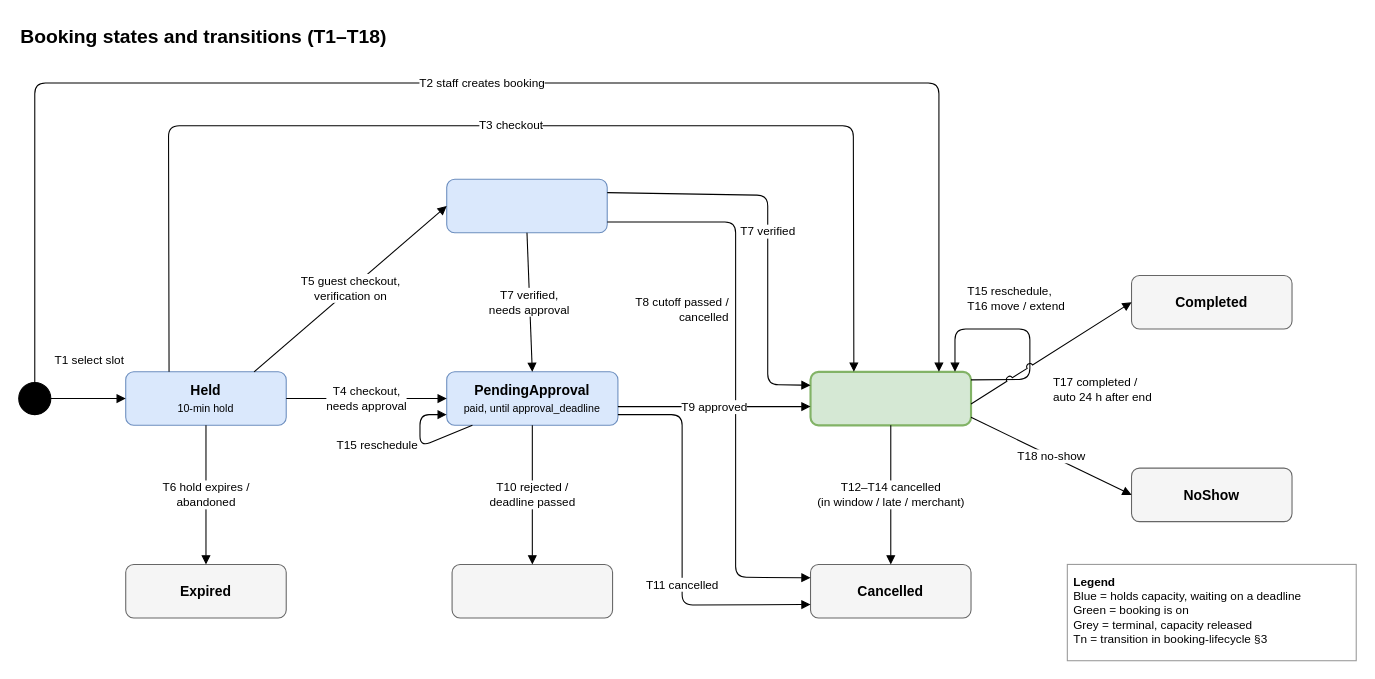
The diagram is 1375 pixels wide and 679 high, and some of its shapes have lost their labels. Here are the shapes that lost their labels. From the top down, the centre of each, then its label:
the point at 526,205: Provisional guest, until verify_by
the point at 890,398: Confirmed
the point at 532,590: Rejected
